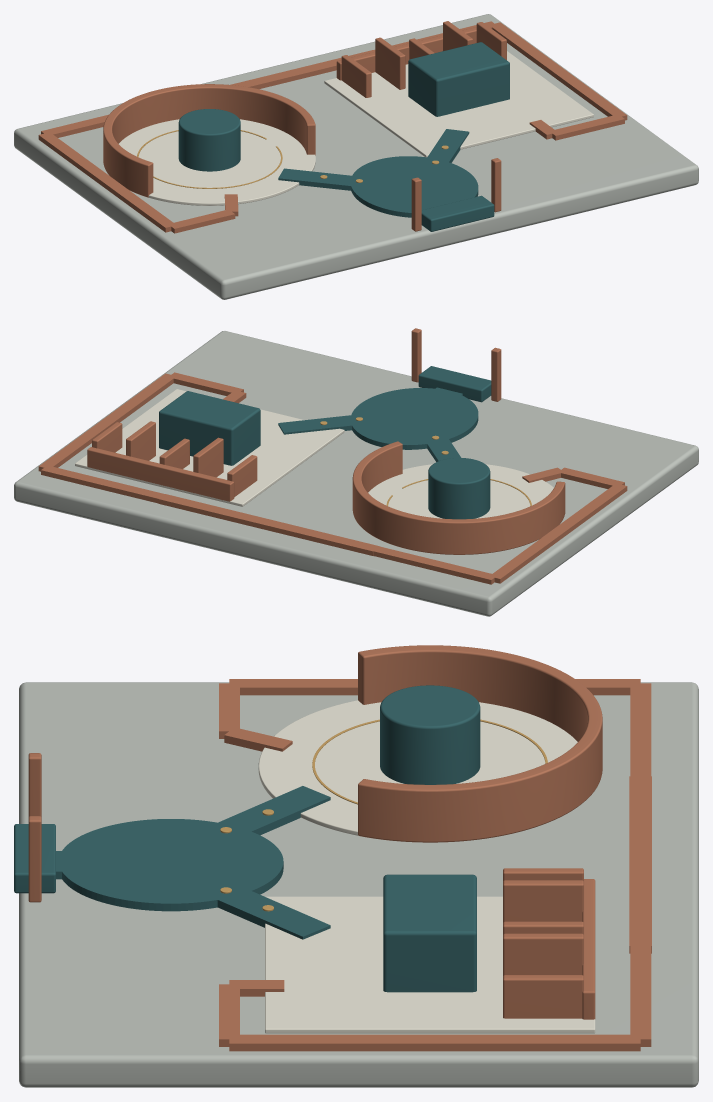
File: environment.glb
3 views of the same model, one above another, from view 1: azimuth 30°, elevation 25°; view 2: azimuth 150°, elevation 25°; view 3: azimuth 270°, elevation 25° (orthographic). The views are drawn at different scales.
Parts seen in each view (by area): view 1: Jointworks / island foundation, Jointworks / slot gallery floor, Jointworks / turning court floor, Jointworks / curved boundary, Jointworks / continuous rear bypass, Jointworks / continuous Y plaza, Jointworks / slot long exhibit plinth, Jointworks / hinge cylindrical plinth, Jointworks / arrival threshold, Jointworks / comb boundary fin 2, Jointworks / comb spine, Jointworks / comb boundary fin 1 (+5 smaller); view 2: Jointworks / island foundation, Jointworks / continuous rear bypass, Jointworks / curved boundary, Jointworks / continuous Y plaza, Jointworks / slot gallery floor, Jointworks / slot long exhibit plinth, Jointworks / turning court floor, Jointworks / hinge cylindrical plinth, Jointworks / comb spine, Jointworks / arrival threshold, Jointworks / comb boundary fin 2, Jointworks / comb boundary fin 4 (+5 smaller); view 3: Jointworks / island foundation, Jointworks / curved boundary, Jointworks / slot gallery floor, Jointworks / continuous rear bypass, Jointworks / continuous Y plaza, Jointworks / turning court floor, Jointworks / slot long exhibit plinth, Jointworks / hinge cylindrical plinth, Jointworks / comb boundary fin 5, Jointworks / comb boundary fin 4, Jointworks / comb boundary fin 2, Jointworks / arrival threshold (+5 smaller).
Part boxes in pixels (<box>): Jointworks / island foundation: <box>14,14,698,299</box>; Jointworks / slot gallery floor: <box>324,51,593,157</box>; Jointworks / turning court floor: <box>119,119,315,205</box>; Jointworks / curved boundary: <box>103,84,315,197</box>; Jointworks / continuous rear bypass: <box>38,21,627,233</box>; Jointworks / continuous Y plaza: <box>278,129,478,217</box>; Jointworks / slot long exhibit plinth: <box>408,42,509,116</box>; Jointworks / hinge cylindrical plinth: <box>178,109,240,171</box>; Jointworks / arrival threshold: <box>421,195,494,231</box>; Jointworks / comb boundary fin 2: <box>375,37,405,89</box>; Jointworks / comb spine: <box>336,27,476,80</box>; Jointworks / comb boundary fin 1: <box>341,55,371,97</box>; Jointworks / island foundation: <box>14,331,698,616</box>; Jointworks / continuous rear bypass: <box>38,372,627,584</box>; Jointworks / curved boundary: <box>352,441,565,554</box>; Jointworks / continuous Y plaza: <box>278,387,478,461</box>; Jointworks / slot gallery floor: <box>75,389,344,506</box>; Jointworks / slot long exhibit plinth: <box>159,391,260,465</box>; Jointworks / turning court floor: <box>368,464,553,518</box>; Jointworks / hinge cylindrical plinth: <box>428,458,490,519</box>; Jointworks / comb spine: <box>87,447,234,501</box>; Jointworks / arrival threshold: <box>418,366,491,402</box>; Jointworks / comb boundary fin 2: <box>193,437,223,477</box>; Jointworks / comb boundary fin 4: <box>126,421,155,460</box>; Jointworks / island foundation: <box>19,682,698,1087</box>; Jointworks / curved boundary: <box>358,645,602,842</box>; Jointworks / slot gallery floor: <box>265,896,595,1033</box>; Jointworks / continuous rear bypass: <box>219,679,651,1051</box>; Jointworks / continuous Y plaza: <box>56,786,330,939</box>; Jointworks / turning court floor: <box>258,700,577,835</box>; Jointworks / slot long exhibit plinth: <box>383,874,476,992</box>; Jointworks / hinge cylindrical plinth: <box>380,685,480,784</box>; Jointworks / comb boundary fin 5: <box>503,975,583,1018</box>; Jointworks / comb boundary fin 4: <box>503,933,583,976</box>; Jointworks / comb boundary fin 2: <box>503,880,583,922</box>; Jointworks / arrival threshold: <box>14,824,55,893</box>.
Size of the model in its own units: 2.76 by 0.39 by 2.11.
